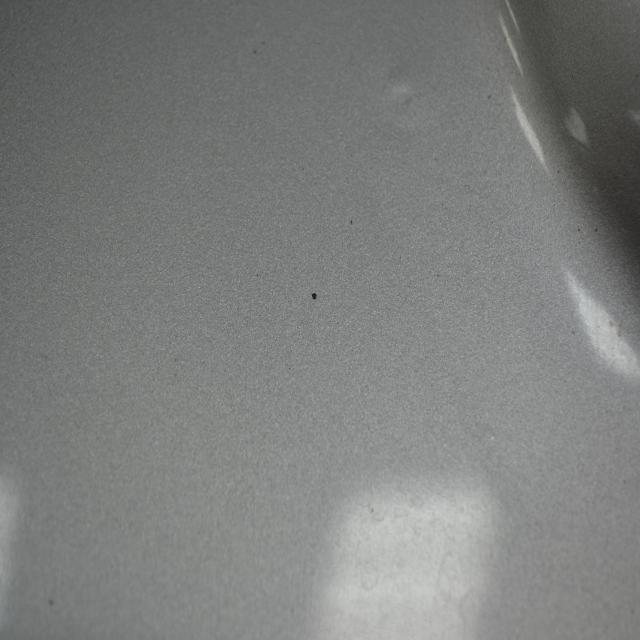dirt: (251, 33, 267, 61), (483, 84, 498, 106), (347, 212, 357, 236), (591, 222, 601, 236), (309, 289, 318, 302), (577, 224, 585, 238)
water marks: (424, 525, 492, 636), (339, 546, 389, 629), (356, 465, 408, 529)
